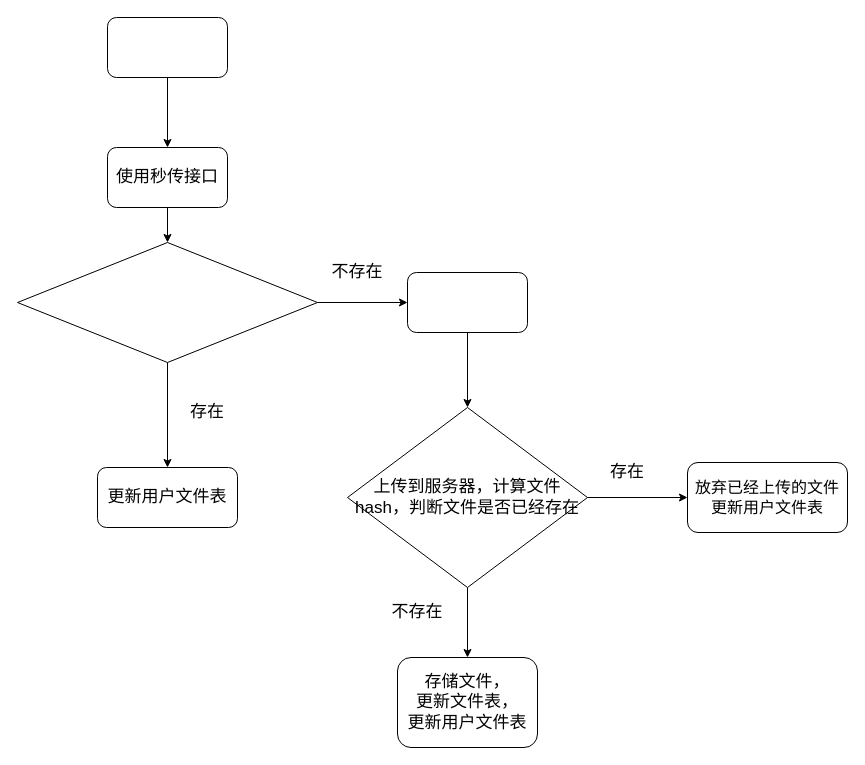
The diagram is 865 pixels wide and 765 high, and some of its shapes have lost their labels. The centre of each missing label's shape, as x and y in pixels:
使用上传接口: the point at 467,302
根据filehash查询文件表， 判断文件是否已经存在: the point at 167,302
用户上传文件: the point at 167,47
